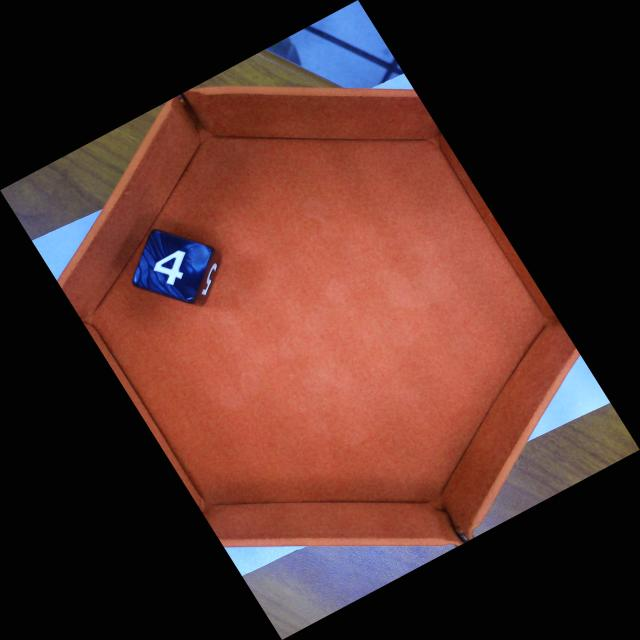dice: (133, 232, 219, 304)
